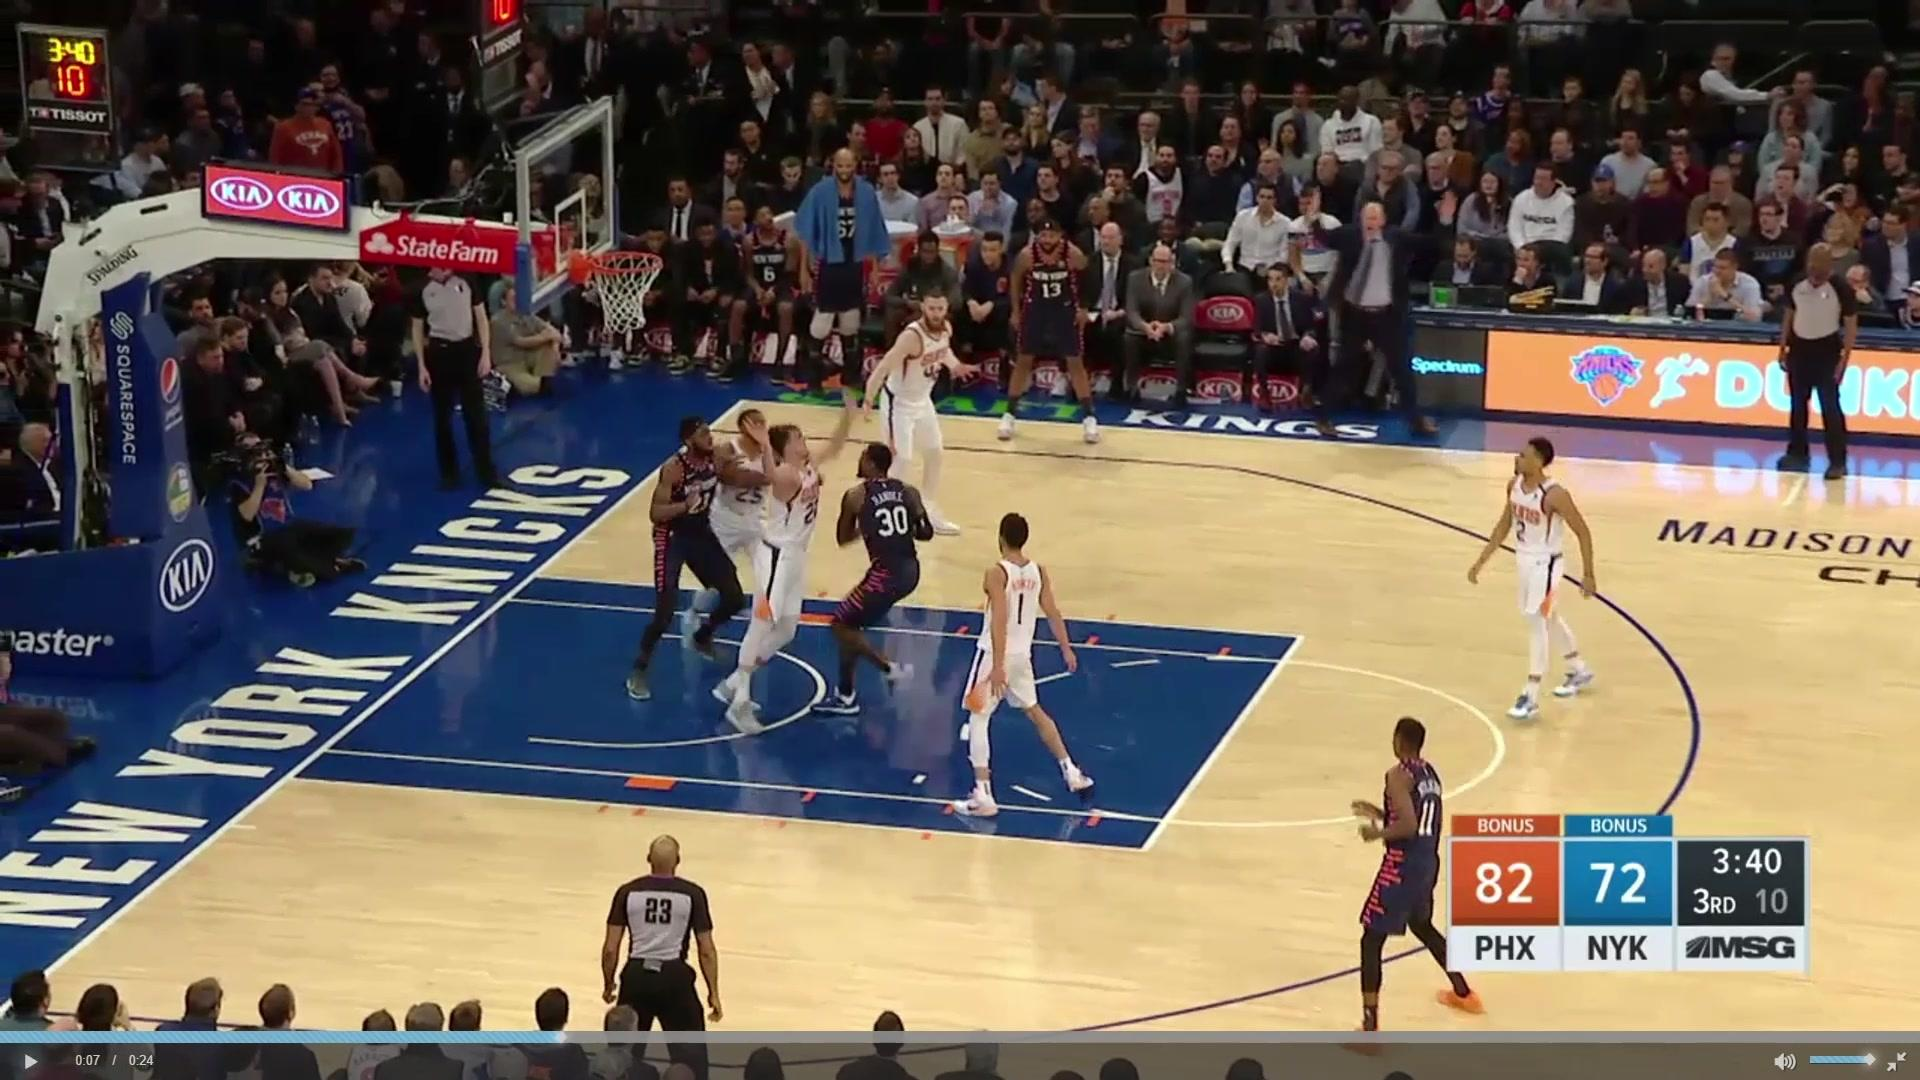foul: (733, 411, 935, 727)
